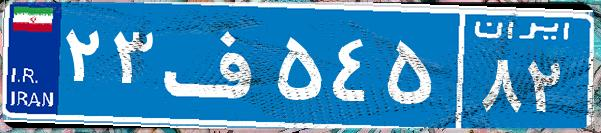2: (57, 26, 110, 107), (525, 38, 570, 115)
3: (110, 28, 158, 105)
4: (330, 28, 385, 110)
5: (385, 28, 445, 110), (273, 28, 330, 110)
8: (475, 38, 525, 113)
ف: (158, 15, 273, 115)
